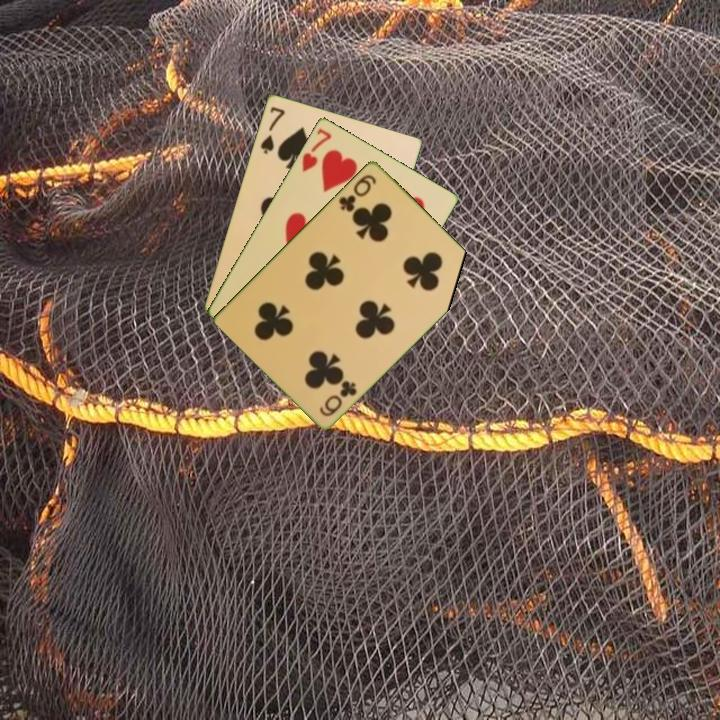6c: (335, 171, 379, 215), (316, 376, 360, 419)
7h: (298, 124, 334, 174)
7s: (257, 103, 288, 156)
